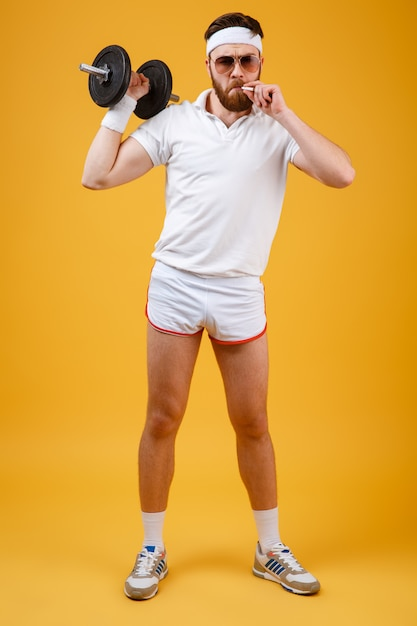cigarette: (239, 85, 256, 92)
